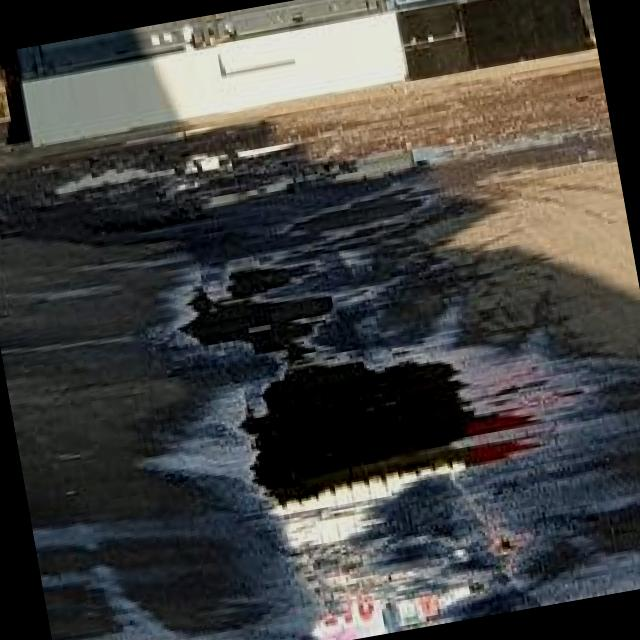waterlogging: (193, 315, 573, 533), (166, 242, 334, 378), (280, 168, 445, 250)
